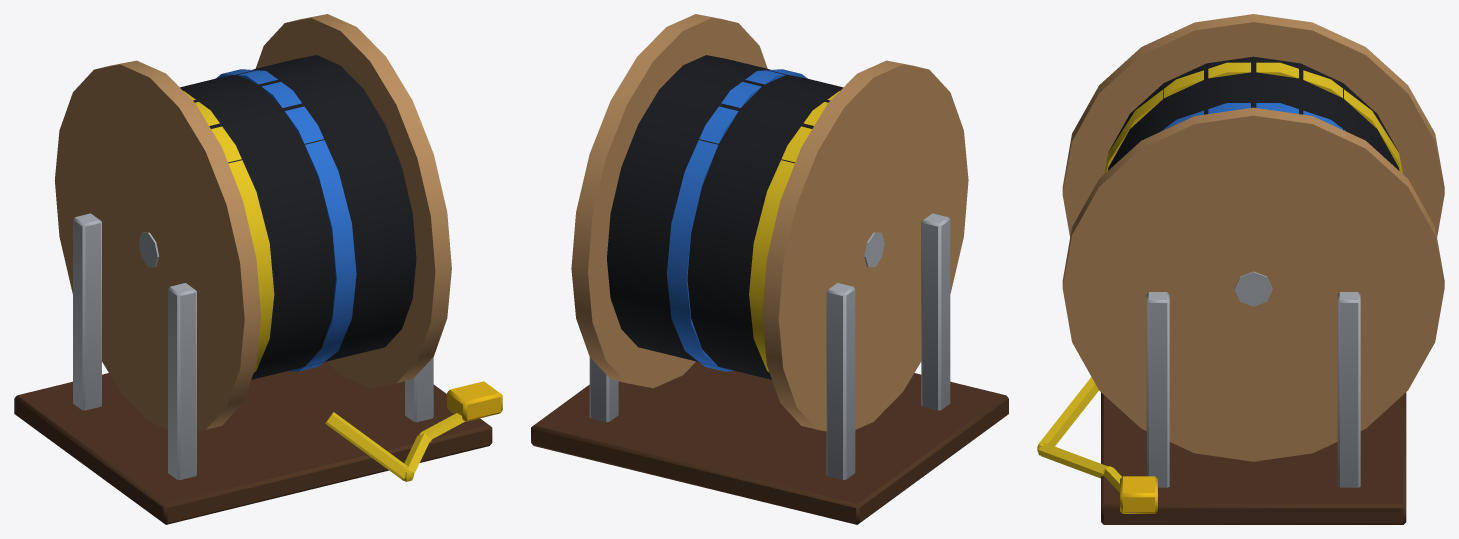
The model's file is router_cable_spool.glb.
3 renders of one model, left to right at view 1: azimuth 30°, elevation 25°; view 2: azimuth 150°, elevation 25°; view 3: azimuth 270°, elevation 25°, orthographic.
Visible parts, largest first — view 1: router_cable_spool; view 2: router_cable_spool; view 3: router_cable_spool.
Part boxes in pixels (x1,y1,x2,y2): router_cable_spool: (14,14,502,524); router_cable_spool: (531,14,1008,524); router_cable_spool: (1037,14,1444,524).
Size of the model in its own units: 1.06 by 1.1 by 1.07.
